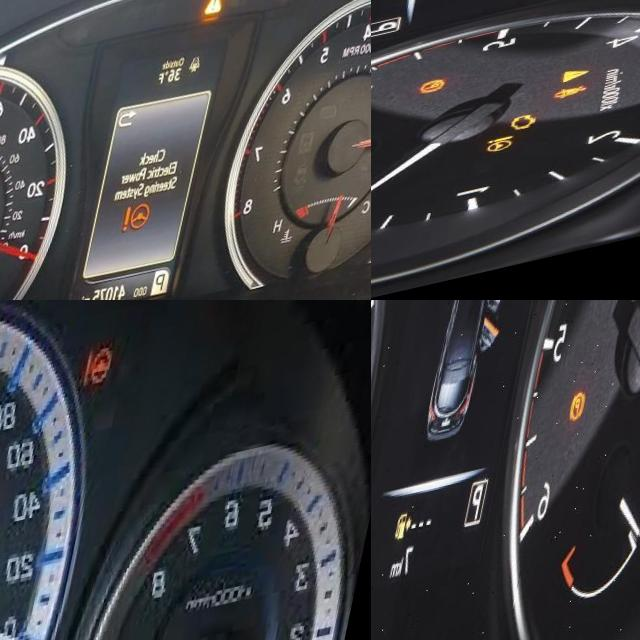Electronic Power Steering: (90, 360, 125, 406), (142, 213, 174, 248), (504, 151, 535, 175), (0, 172, 7, 194)
Seat Belt: (571, 103, 607, 127)
